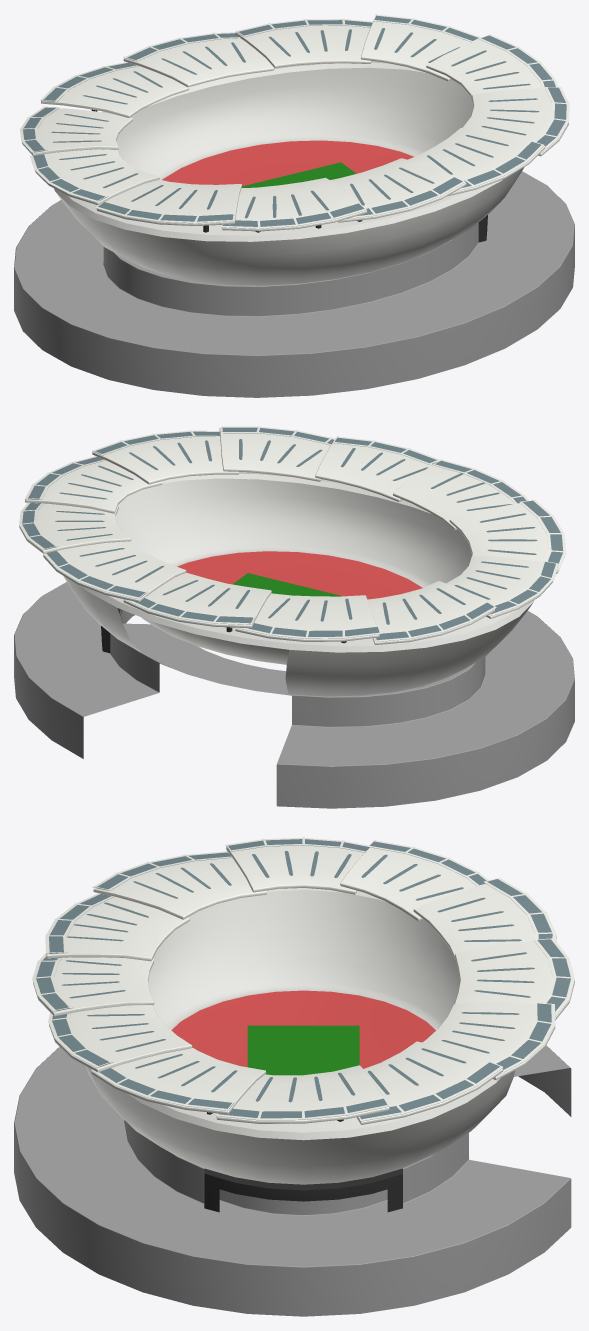
The model's file is HeLongTiYuZhongXin.fbx.
The picture shows the model from 3 angles, top to bottom: view 1: azimuth 30°, elevation 25°; view 2: azimuth 150°, elevation 25°; view 3: azimuth 270°, elevation 25°; orthographic projection. The views are drawn at different scales.
Visible parts, largest first — view 1: HeLongTiYuZhongXin; view 2: HeLongTiYuZhongXin; view 3: HeLongTiYuZhongXin.
Boxes of the visible parts, bbox=[...] form: HeLongTiYuZhongXin: bbox=[14, 14, 574, 397]; HeLongTiYuZhongXin: bbox=[14, 426, 574, 808]; HeLongTiYuZhongXin: bbox=[14, 837, 574, 1316].
Size of the model in its own units: 248 by 80.95 by 204.
1 material, 1 textured.
